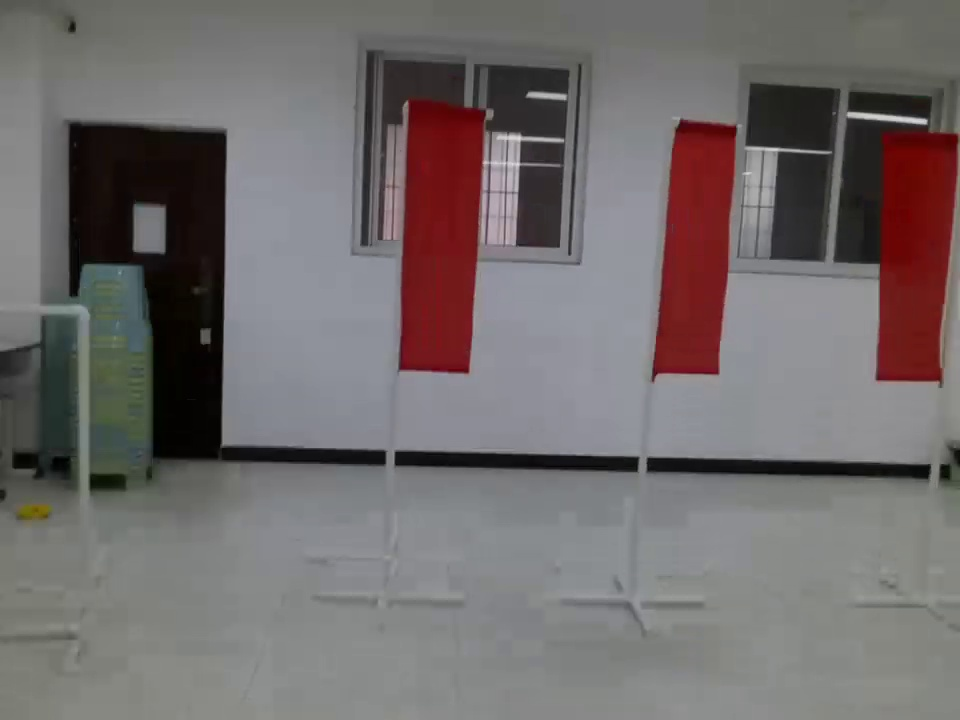qi: (394, 96, 485, 388), (650, 114, 744, 388), (877, 128, 959, 394)
